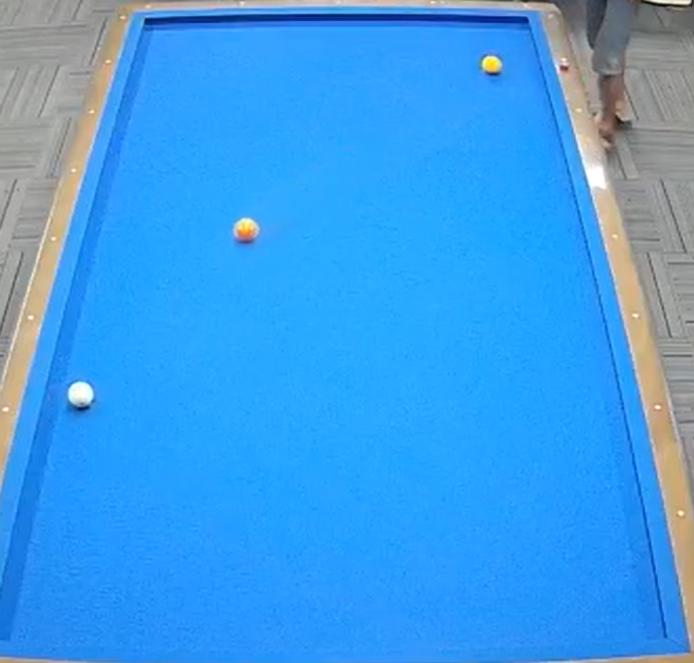orange ball: (227, 214, 265, 250)
white ball: (63, 377, 101, 413)
yellow ball: (477, 50, 508, 79)
